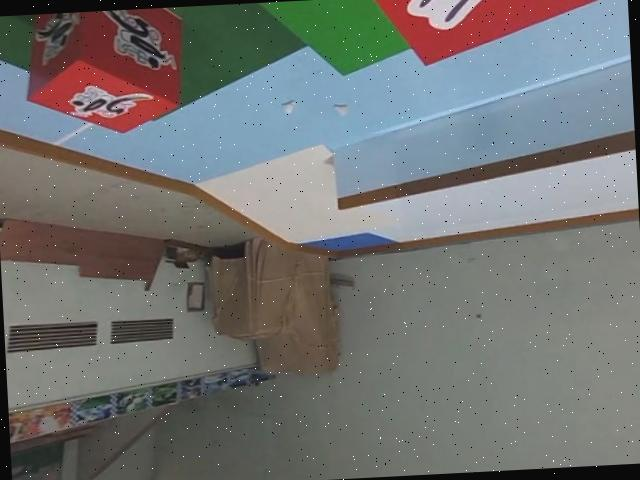R1: (24, 7, 187, 143)
R2 Fake: (351, 0, 625, 72)
